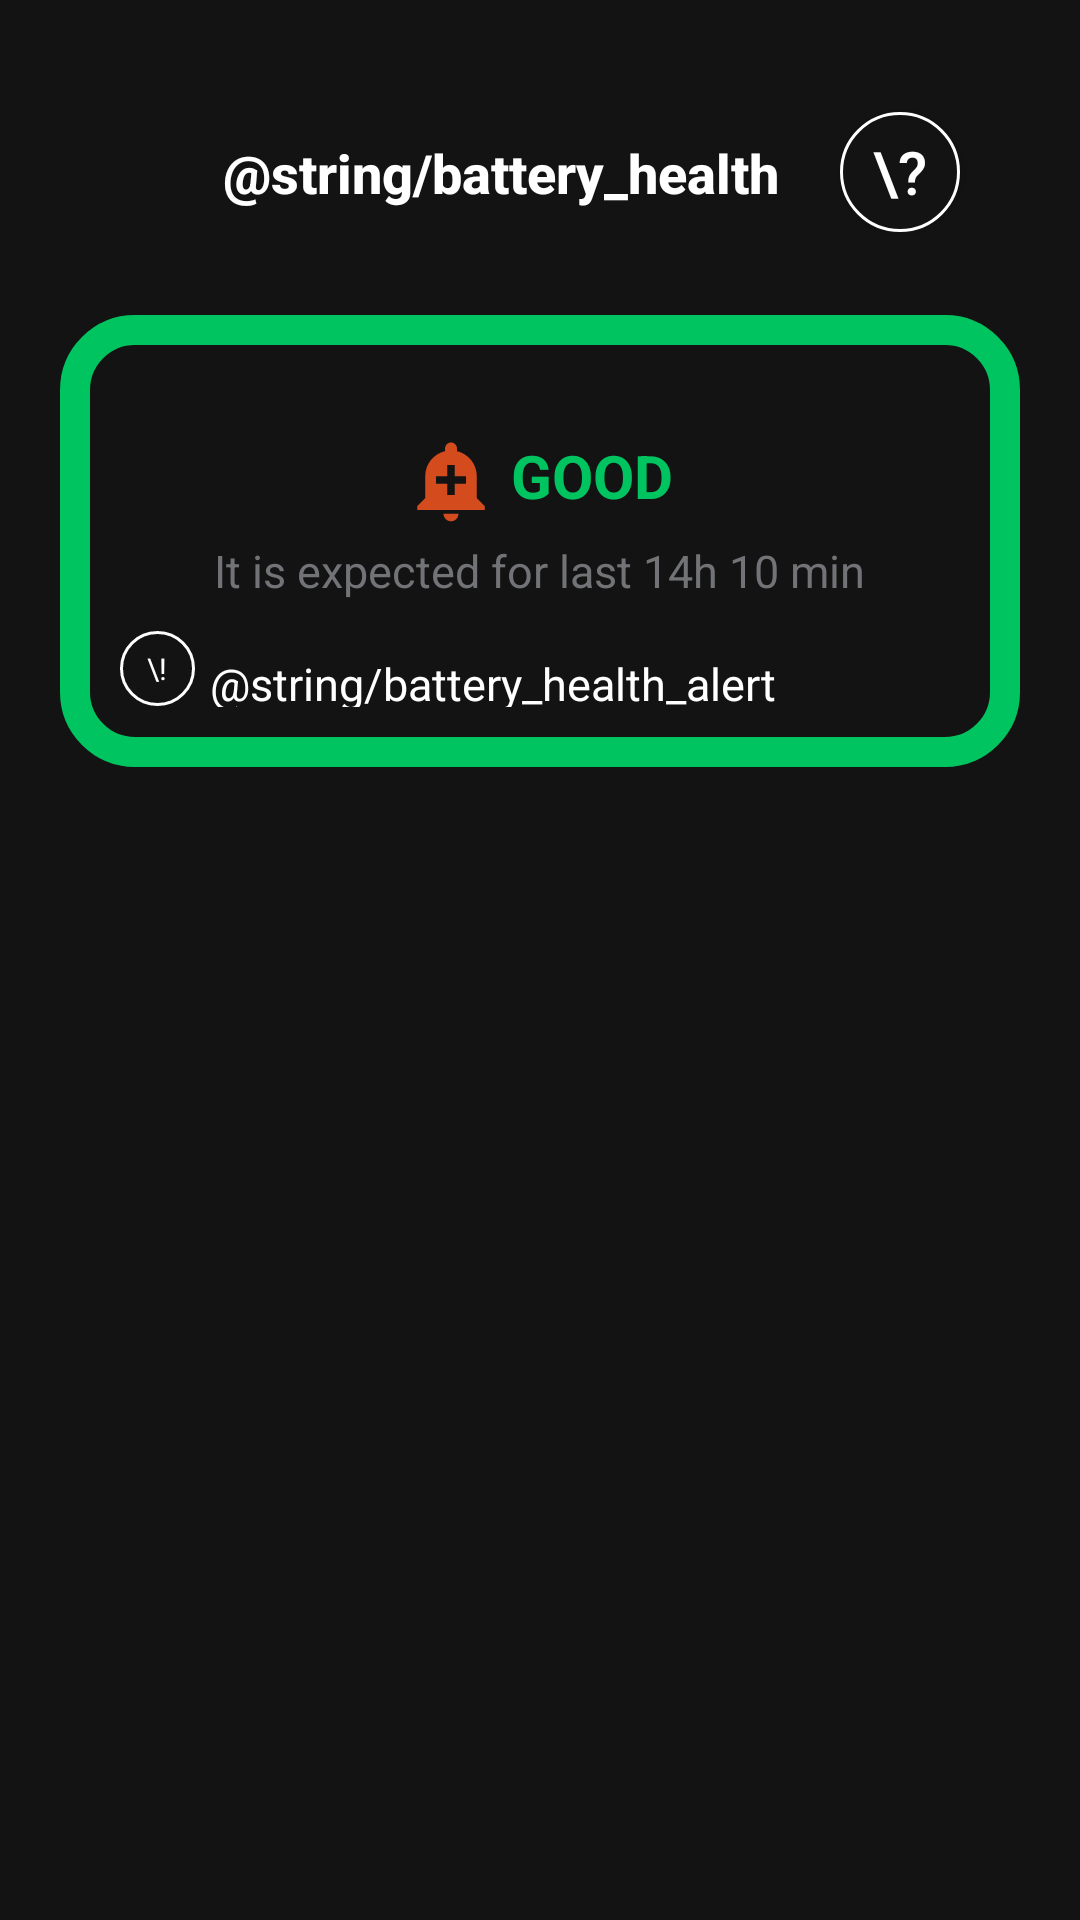

Locate icon controls on the screen. Image size 1080 × 1920, boxes as (x1, y1, x2, y2).
add alert: (417, 442, 485, 522)
